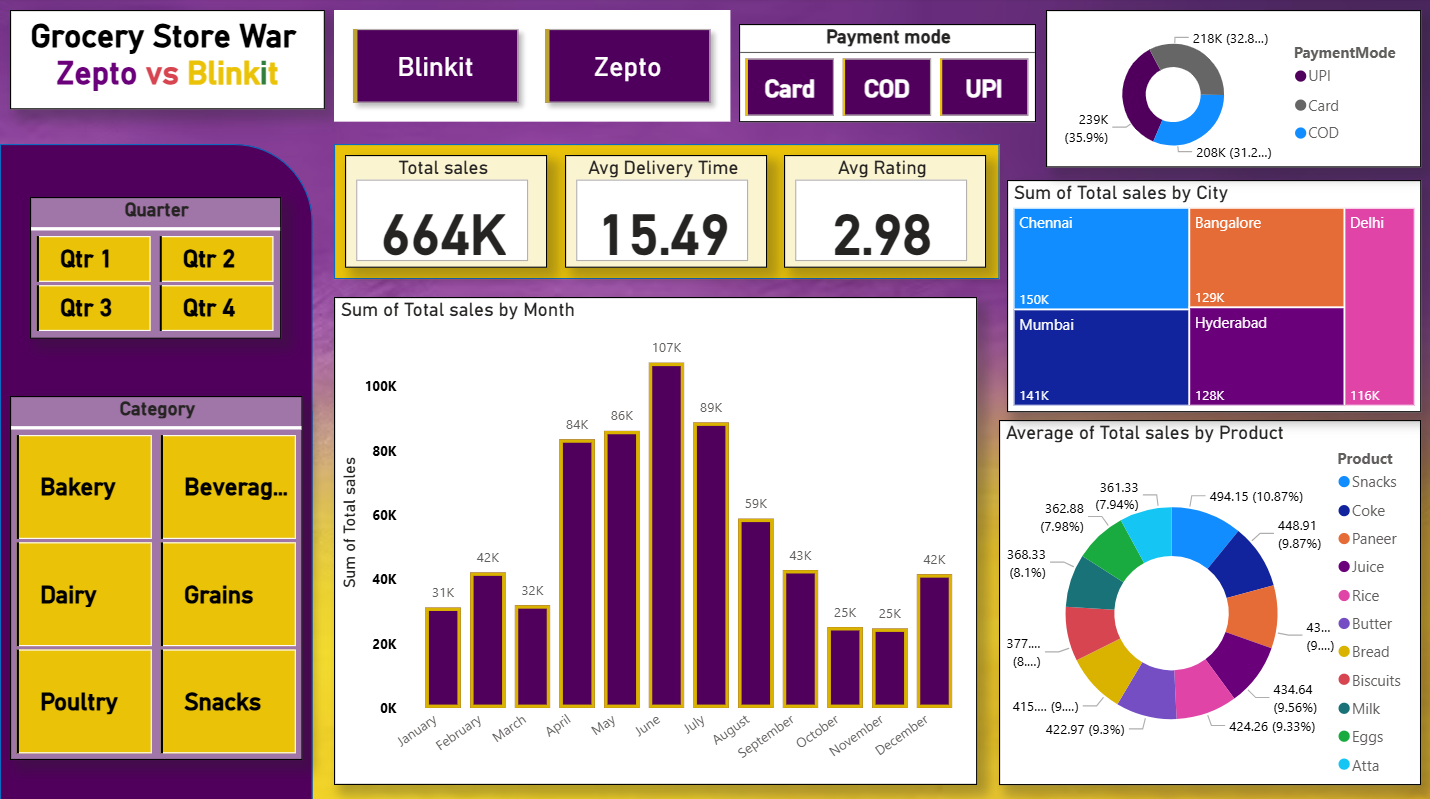

The page's visual inventory and layout, read from the dashboard file:
{"tool":"powerbi","page":{"name":"Page 1","canvas":[1280,720],"ordinal":0},"visuals":[{"type":"shape","box":[0,131,280,589],"z":0},{"type":"textbox","box":[9,11,282,89],"z":1000},{"type":"advancedSlicerVisual","fields":{"Values":["Table2.Brand"]},"box":[299,11,355,100],"z":2000},{"type":"advancedSlicerVisual","title":"Payment mode ","fields":{"Values":["Table2.PaymentMode"]},"box":[651,23,266,88],"z":3000},{"type":"shape","box":[299,131,596,121],"z":4000},{"type":"cardVisual","title":"Total sales","fields":{"Data":["Sum(Table2.Total sales)"]},"box":[309,141,181,101],"z":5000},{"type":"advancedSlicerVisual","fields":{"Values":["Table2.Date.Variation.Date Hierarchy.Quarter"]},"box":[27,178,225,127],"z":6000},{"type":"advancedSlicerVisual","fields":{"Values":["Table2.Category"]},"box":[9,356,262,326],"z":7000},{"type":"cardVisual","title":"Avg Delivery Time","fields":{"Data":["Avg(Table2.DeliveryTime(min))"]},"box":[506,141,181,101],"z":8000},{"type":"cardVisual","title":"Avg Rating","fields":{"Data":["Avg(Table2.Rating)"]},"box":[702,141,181,101],"z":9000},{"type":"clusteredColumnChart","fields":{"Category":["Table2.Date.Variation.Date Hierarchy.Month"],"Y":["Sum(Table2.Total sales)"]},"box":[299,268,576,437],"z":10000},{"type":"donutChart","fields":{"Category":["Table2.Product"],"Y":["Avg(Table2.Total sales)"]},"box":[895,378,378,327],"z":11000},{"type":"treemap","fields":{"Group":["Table2.City"],"Values":["Sum(Table2.Total sales)"]},"box":[902,163,371,208],"z":12000},{"type":"pieChart","fields":{"Category":["Table2.PaymentMode"],"Y":["Sum(Table2.Total sales)"]},"box":[928,11,336,141],"z":13000}]}

Visuals, with their boxes in screenshot pixels (x1, y1, x2, y2), scaled from the page's 1280x720 canvas onto the 1430x799 screenshot:
shape: box(0, 145, 313, 798)
textbox: box(10, 12, 325, 111)
advancedSlicerVisual - Table2.Brand: box(334, 12, 731, 123)
"Payment mode " advancedSlicerVisual: box(727, 26, 1024, 123)
shape: box(334, 145, 1000, 280)
"Total sales" cardVisual: box(345, 156, 547, 269)
advancedSlicerVisual - Table2.Date.Variation.Date Hierarchy.Quarter: box(30, 198, 282, 338)
advancedSlicerVisual - Table2.Category: box(10, 395, 303, 757)
"Avg Delivery Time" cardVisual: box(565, 156, 768, 269)
"Avg Rating" cardVisual: box(784, 156, 986, 269)
clusteredColumnChart - Table2.Date.Variation.Date Hierarchy.Month x Sum(Table2.Total sales): box(334, 297, 978, 782)
donutChart - Table2.Product x Avg(Table2.Total sales): box(1000, 419, 1422, 782)
treemap - Table2.City x Sum(Table2.Total sales): box(1008, 181, 1422, 412)
pieChart - Table2.PaymentMode x Sum(Table2.Total sales): box(1037, 12, 1412, 169)
